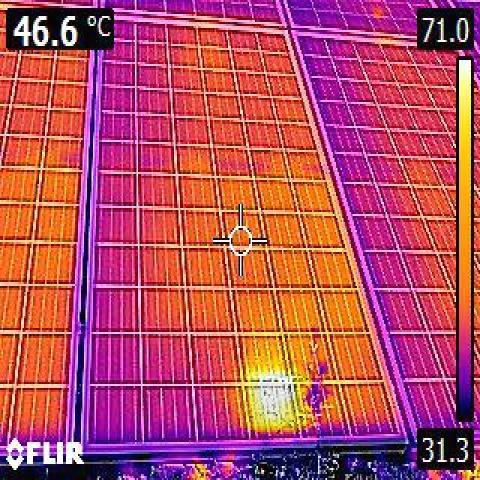fault: (251, 383, 297, 432)
